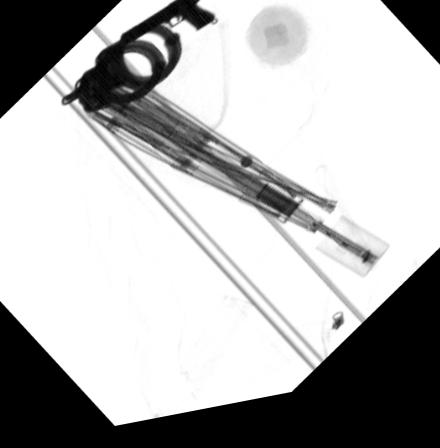Gun: (118, 0, 216, 49)
HandCuffs: (56, 26, 181, 118)
